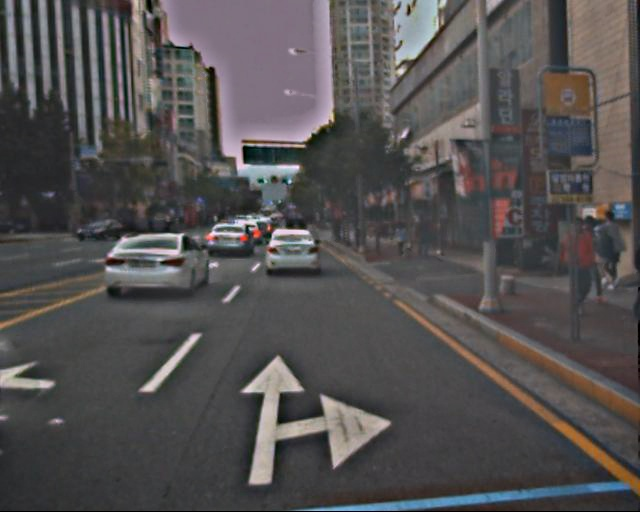person: (555, 216, 598, 322), (590, 210, 624, 293), (414, 212, 434, 260), (393, 221, 409, 260)
